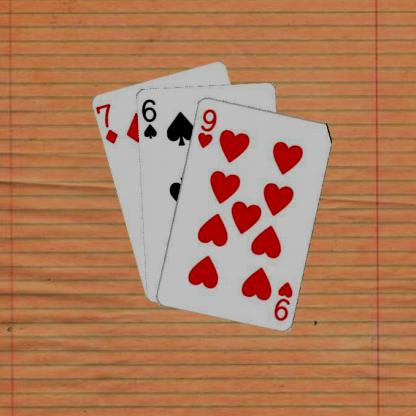6S: (139, 96, 157, 140)
7D: (94, 100, 118, 144)
9H: (194, 106, 218, 149), (271, 279, 294, 322)
